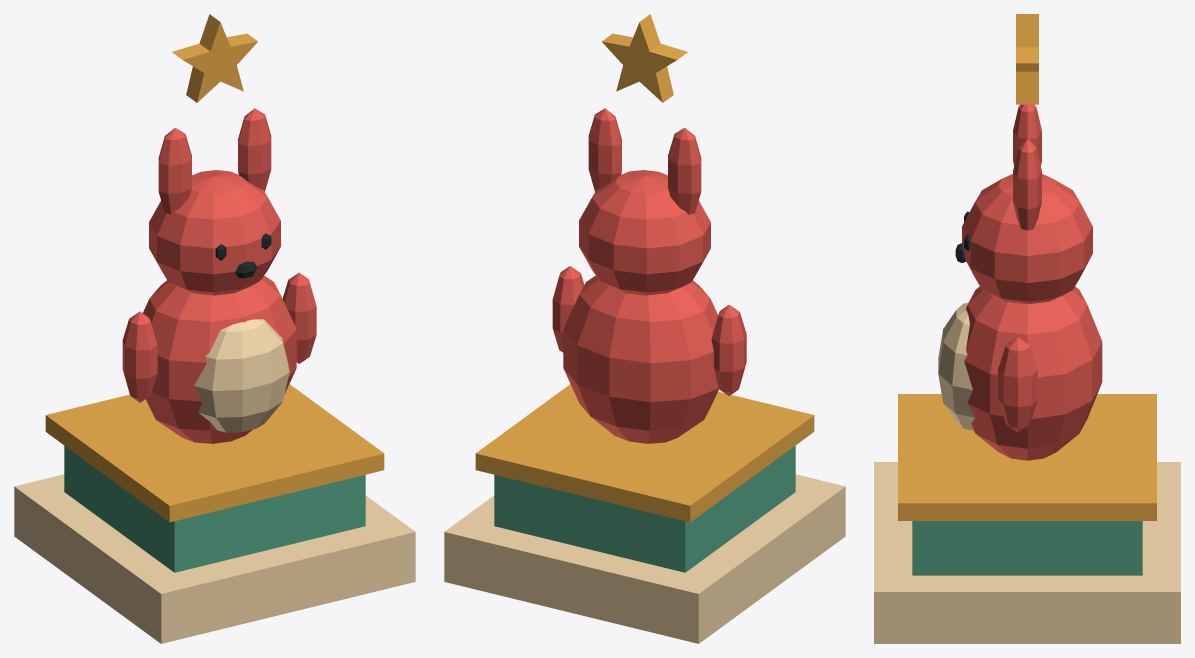
The model's file is ParkParkDecorStatue.obj.
The picture shows the model from 3 angles, left to right: view 1: azimuth 30°, elevation 25°; view 2: azimuth 150°, elevation 25°; view 3: azimuth 270°, elevation 25°; orthographic projection. The views are drawn at different scales.
Visible parts, largest first — view 1: ParkParkDecorStatue; view 2: ParkParkDecorStatue; view 3: ParkParkDecorStatue.
Boxes of the visible parts, left/top/right/bottom form: ParkParkDecorStatue: left=14, top=14, right=415, bottom=643; ParkParkDecorStatue: left=444, top=14, right=845, bottom=643; ParkParkDecorStatue: left=874, top=14, right=1180, bottom=643.
Size of the model in its own units: 3.2 by 6.5 by 3.2.
